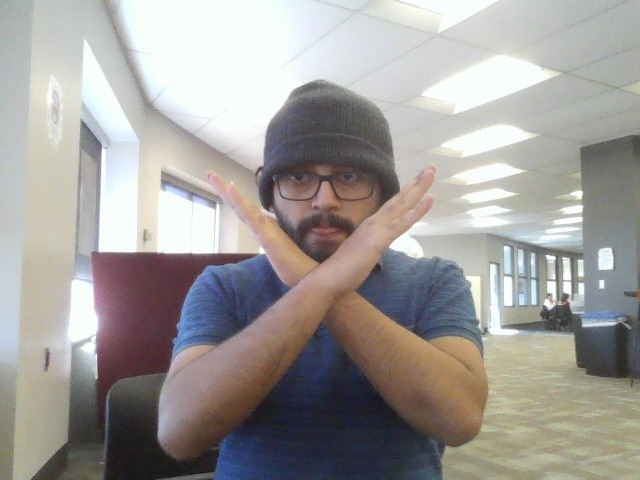start: (192, 150, 471, 370)
